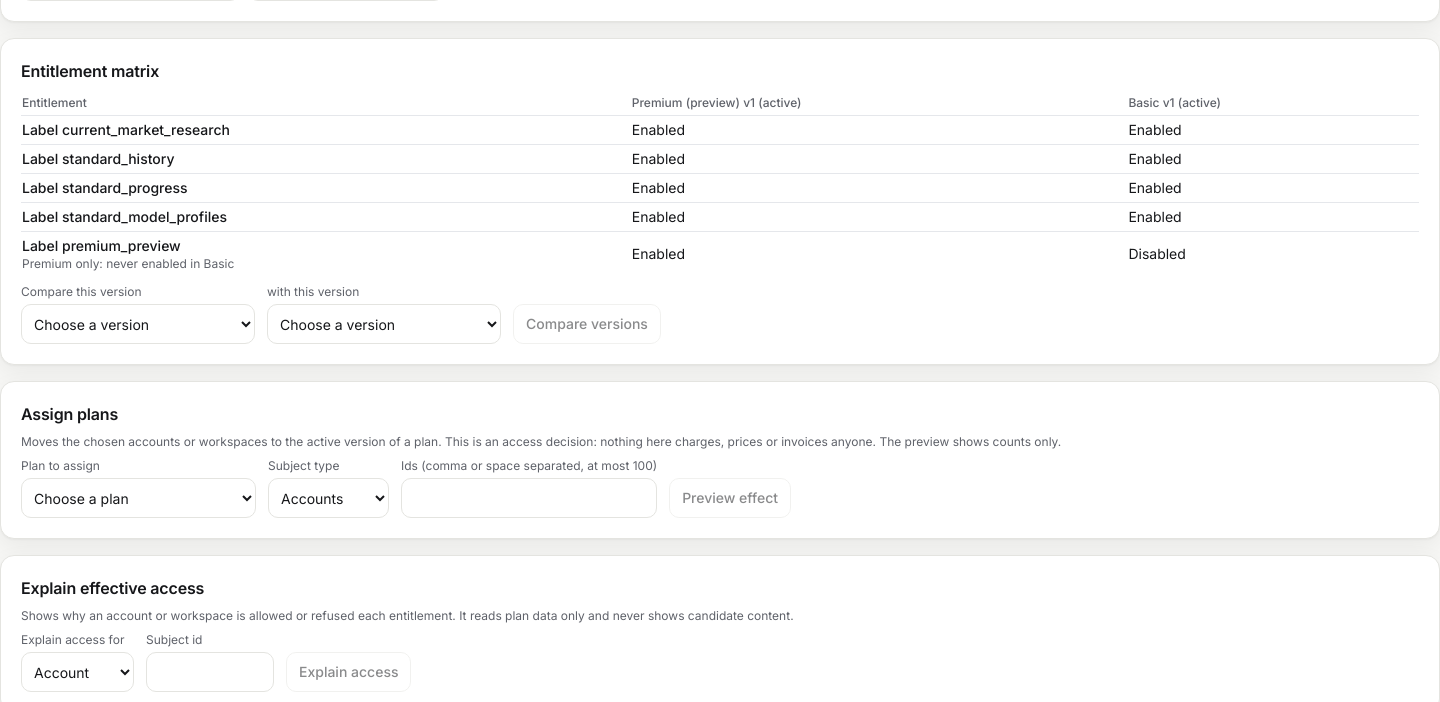
it: Explain effective access › asks for a workspace id with the workspace parameter and refuses a non-numeric id locally
(page scrolled)
Select "Workspace" in the dropdown labelled "Explain access for" at {"x": 78, "y": 672}, box [21, 652, 134, 692]
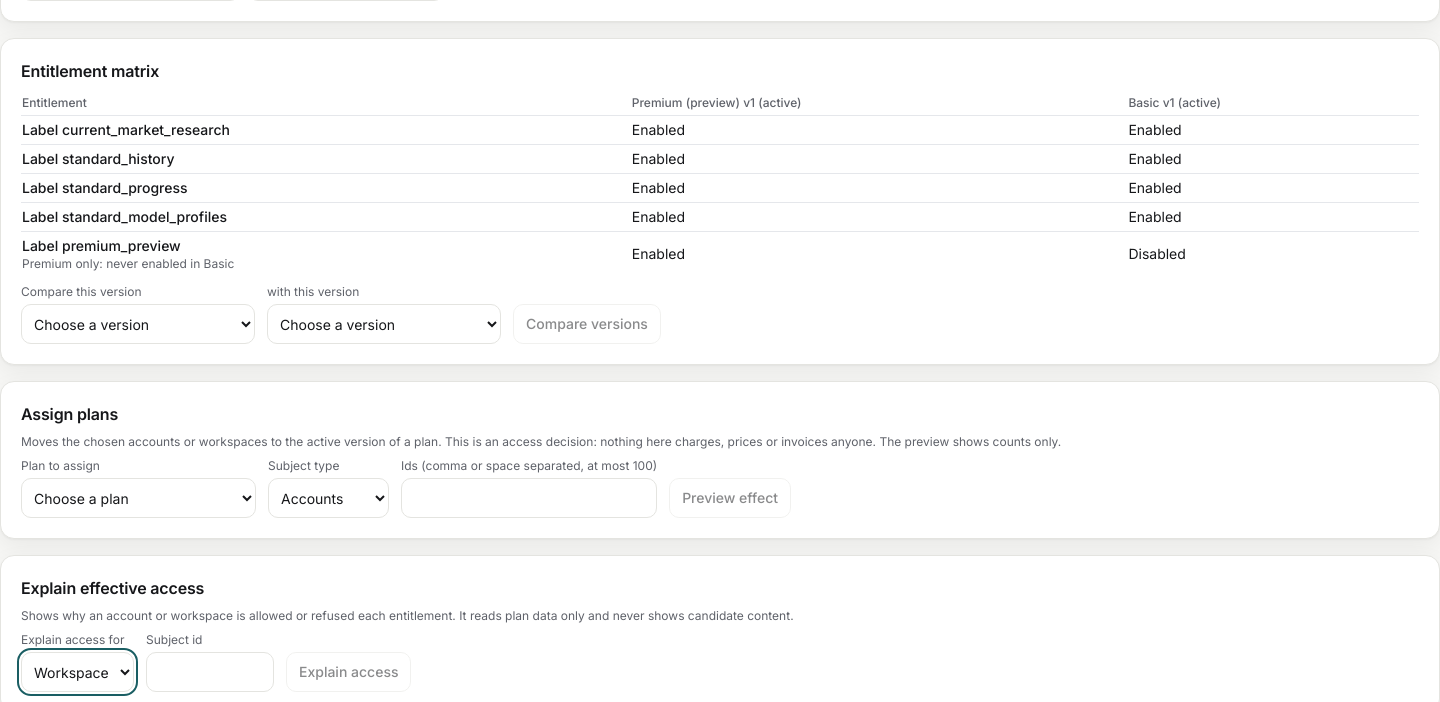
Type "12" into the field labelled "Subject id" at {"x": 210, "y": 672}, box [146, 652, 274, 692]
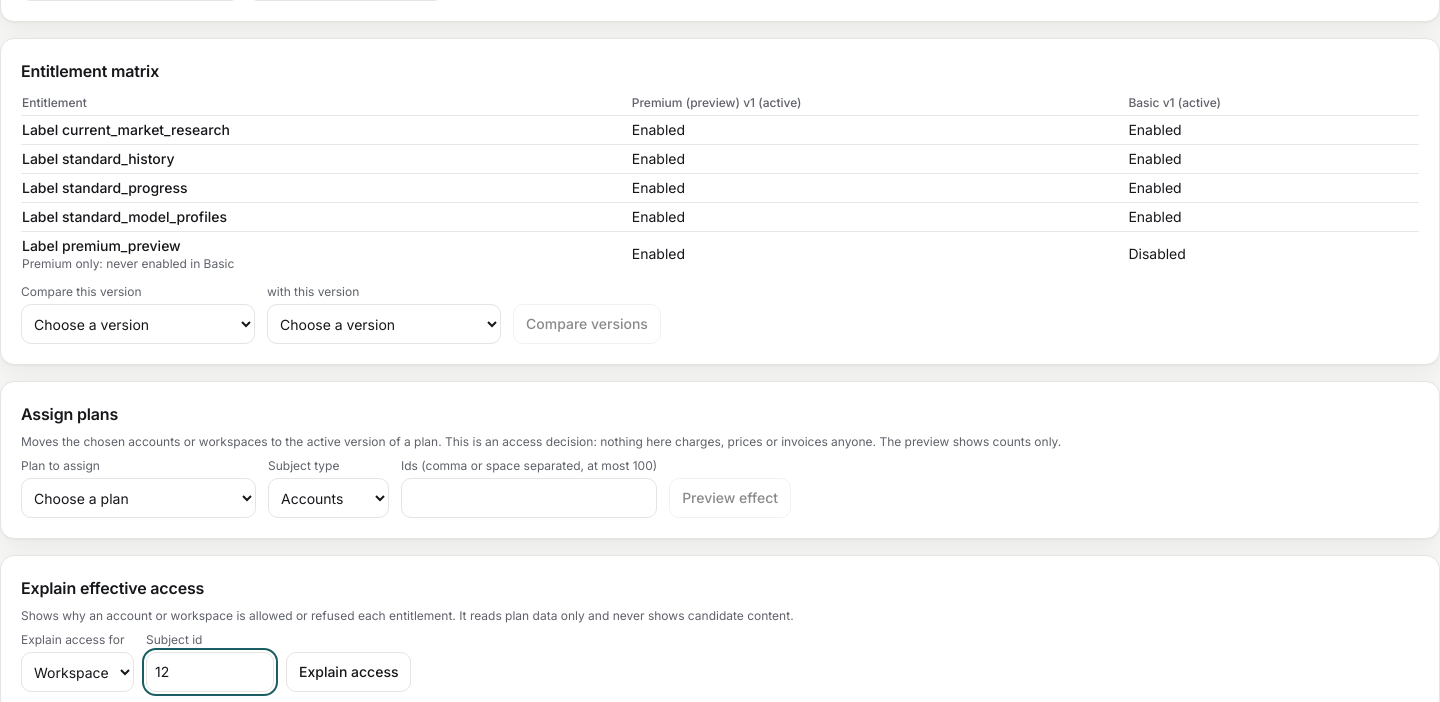
Click the button "Explain access" at {"x": 349, "y": 672}, box [286, 652, 412, 692]
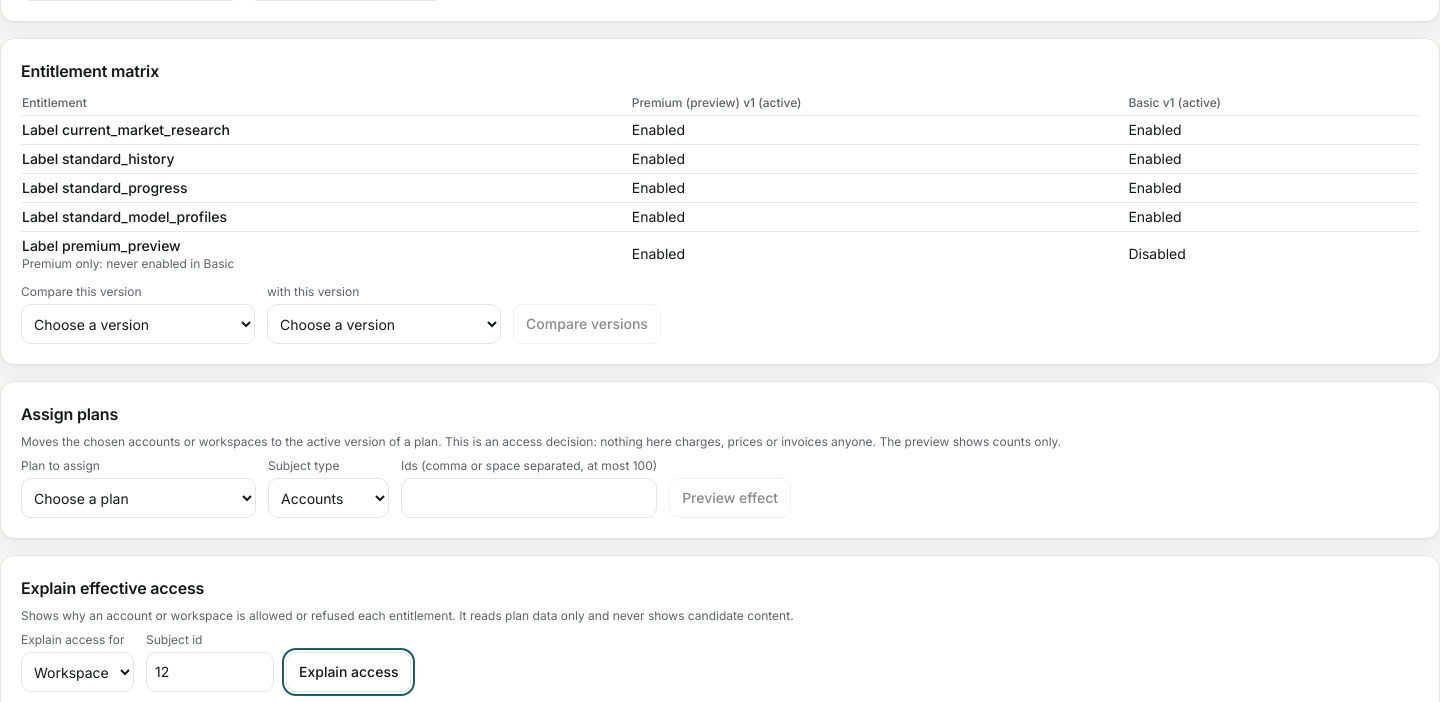
Replace the text in the field labelled "Subject id" with "x1" at {"x": 210, "y": 672}, box [146, 652, 274, 692]
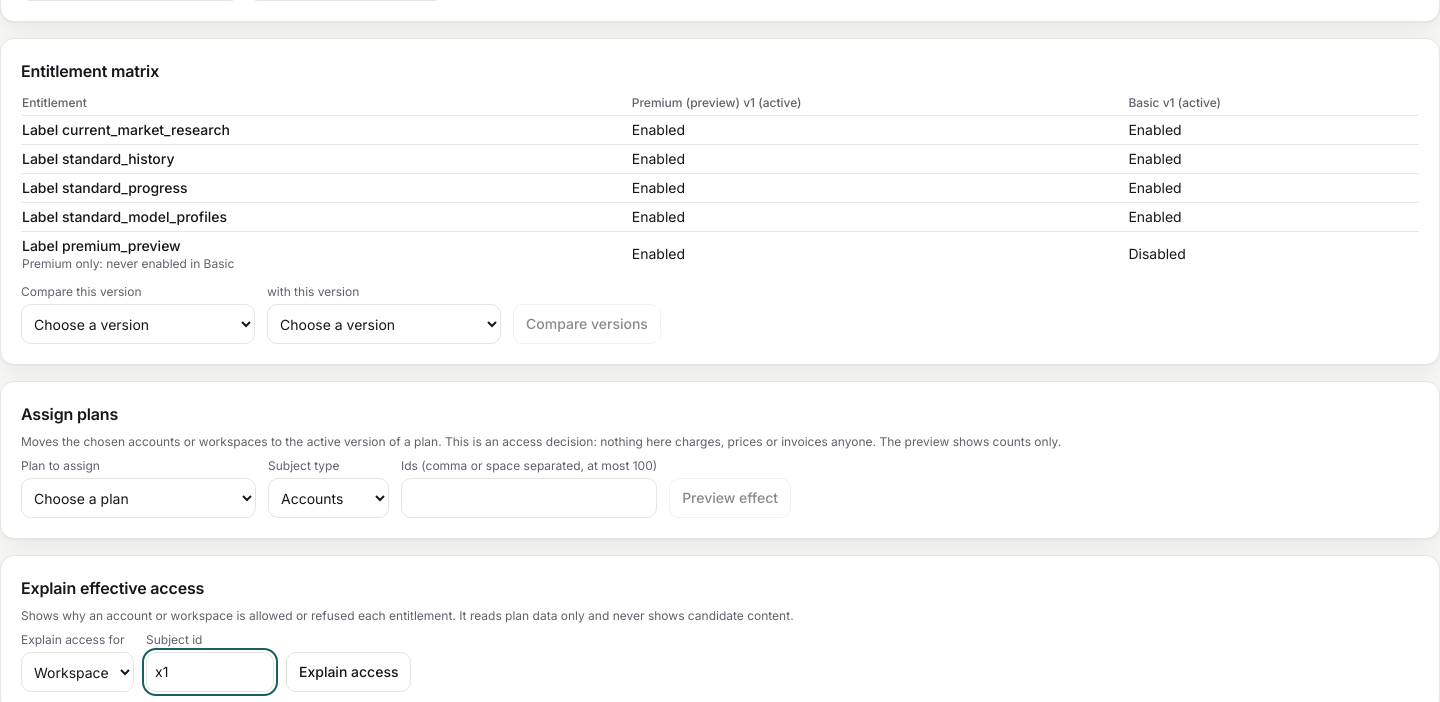
Click the button "Explain access" at {"x": 349, "y": 672}, box [286, 652, 412, 692]
(page scrolled)
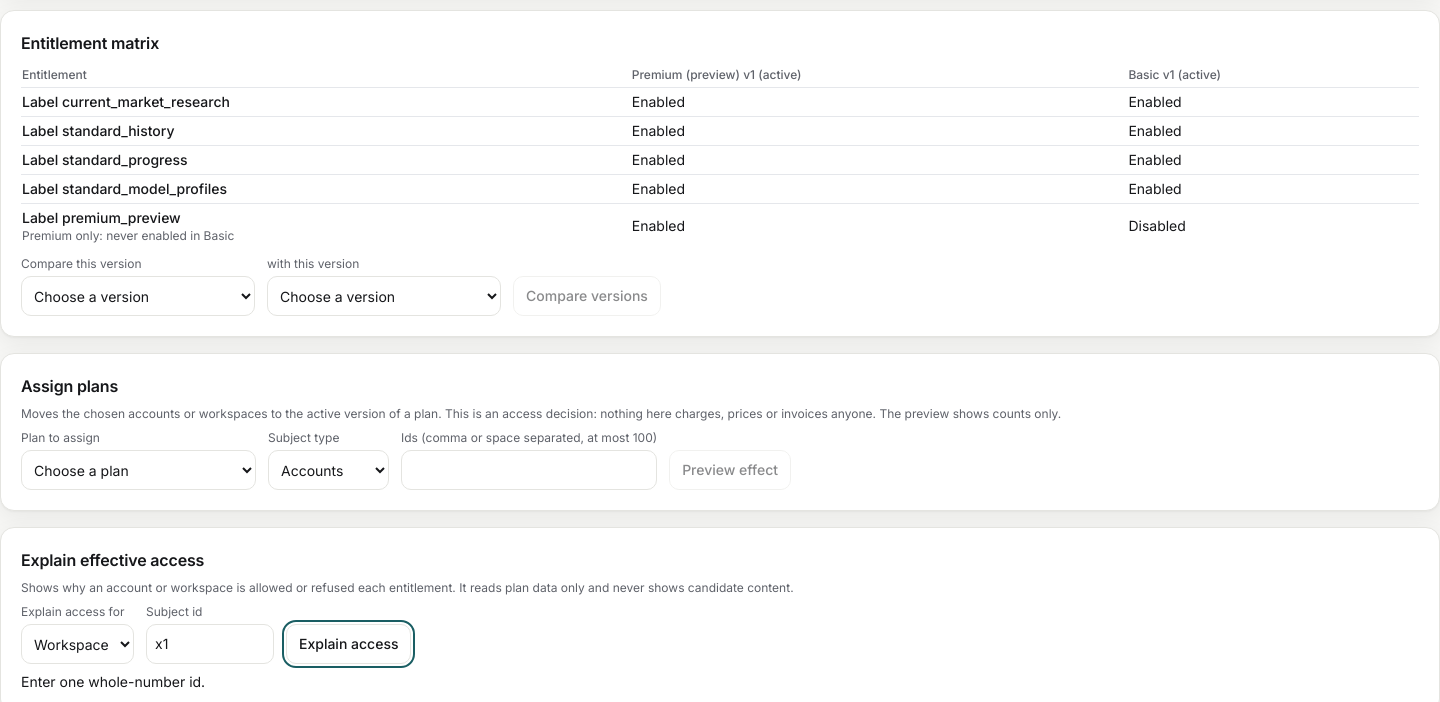
Now the message reads "Enter one whole-number id.", box [21, 673, 205, 690]
